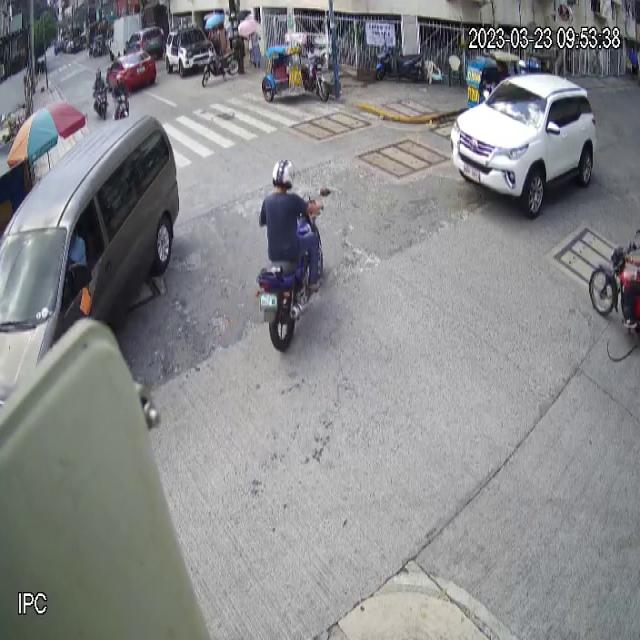Car: (451, 73, 598, 218)
Motorcycle: (254, 185, 333, 351)
Tricycle: (262, 31, 330, 103)
Van: (0, 112, 180, 429)
